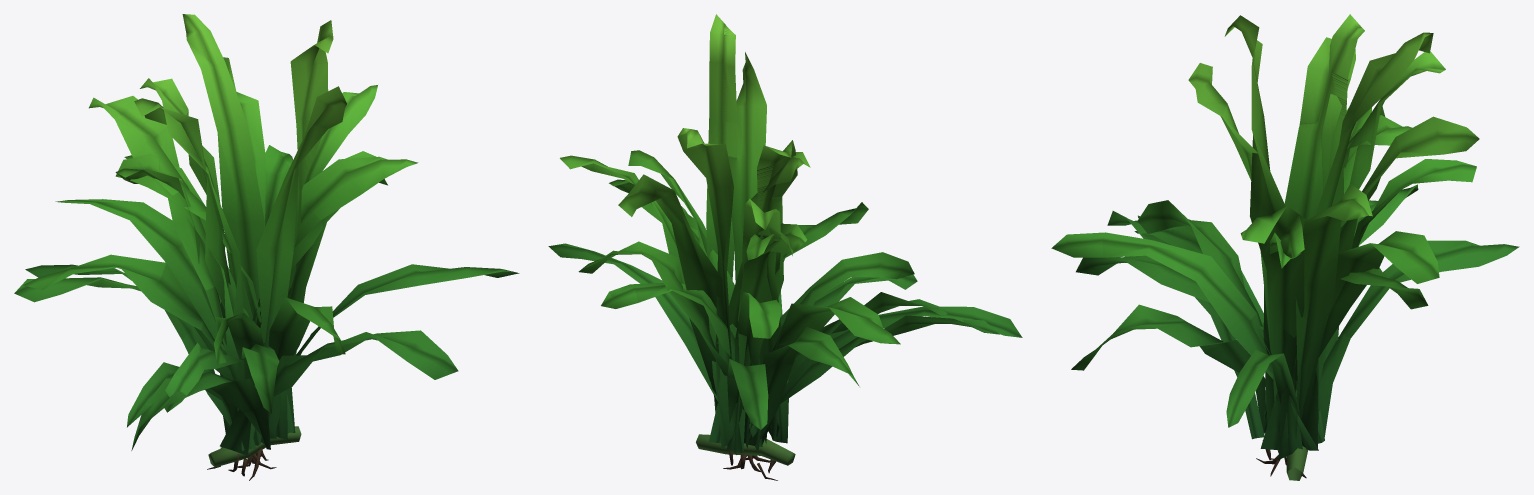
Rendered from Fern.glb.
3 renders of one model, left to right at view 1: azimuth 30°, elevation 25°; view 2: azimuth 150°, elevation 25°; view 3: azimuth 270°, elevation 25°, orthographic. The views are drawn at different scales.
Visible parts, largest first — view 1: Fern; view 2: Fern; view 3: Fern.
Boxes of the visible parts, x1,y1,x2,y2 form: Fern: [14, 14, 519, 480]; Fern: [548, 14, 1022, 480]; Fern: [1051, 14, 1519, 480].
Bounding box in the file's own units: 2.54 × 2.46 × 2.15.
3 materials, 3 textured.
